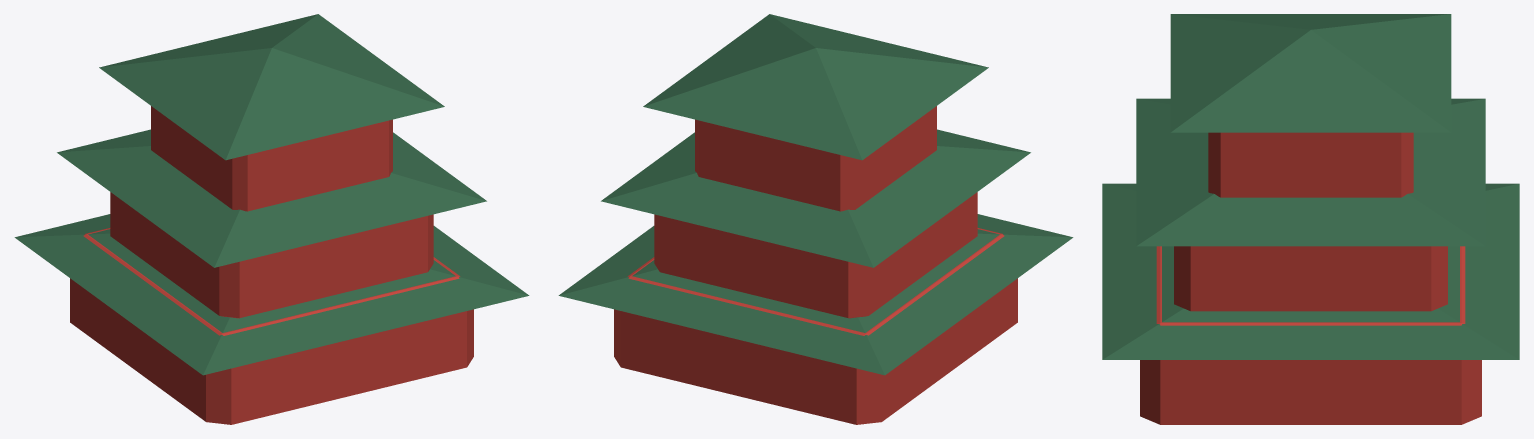
Rendered from pagoda_temple.glb.
3 renders of one model, left to right at view 1: azimuth 30°, elevation 25°; view 2: azimuth 150°, elevation 25°; view 3: azimuth 270°, elevation 25°, orthographic. The views are drawn at different scales.
Parts seen in each view (by area): view 1: pyr.002, pyr, p0, pyr.001, p1, p2; view 2: pyr.002, pyr, p0, pyr.001, p1, p2; view 3: pyr.002, pyr, pyr.001, p0, p1, p2.
Boxes of the visible parts, bbox=[...] form: pyr.002: bbox=[99, 14, 444, 160]; pyr: bbox=[14, 214, 529, 375]; p0: bbox=[70, 228, 473, 424]; pyr.001: bbox=[57, 129, 486, 267]; p1: bbox=[110, 192, 433, 318]; p2: bbox=[151, 106, 392, 211]; pyr.002: bbox=[643, 14, 988, 160]; pyr: bbox=[558, 214, 1073, 375]; p0: bbox=[614, 228, 1017, 424]; pyr.001: bbox=[601, 129, 1030, 267]; p1: bbox=[654, 192, 977, 318]; p2: bbox=[695, 106, 936, 211]; pyr.002: bbox=[1170, 14, 1451, 132]; pyr: bbox=[1102, 183, 1519, 359]; pyr.001: bbox=[1136, 98, 1485, 246]; p0: bbox=[1140, 246, 1481, 424]; p1: bbox=[1174, 246, 1447, 311]; p2: bbox=[1208, 132, 1413, 197].
Bounding box in the file's own units: 12.2 × 10.6 × 12.2.
